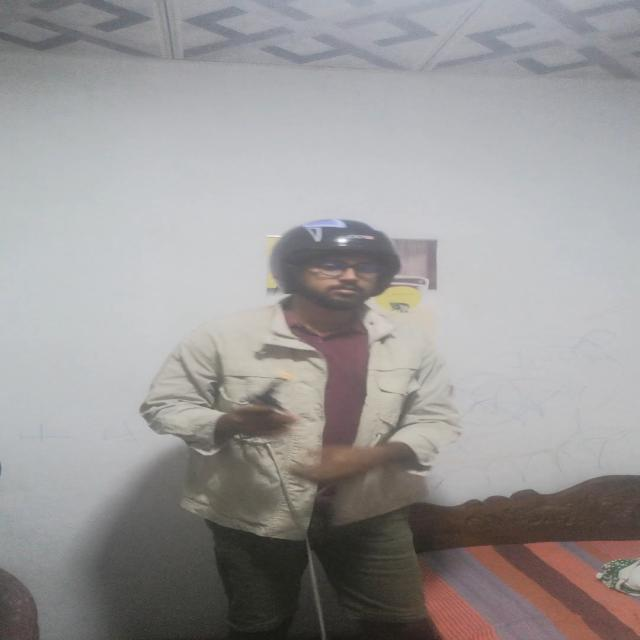Gun_Holder: (232, 367, 312, 433)
Helmet_Wearer: (135, 302, 481, 530), (242, 221, 429, 303)
Person: (147, 221, 446, 640)
